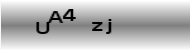4: (61, 8, 76, 22)
A: (46, 10, 62, 24)
U: (35, 20, 50, 34)
j: (105, 17, 112, 34)
z: (90, 20, 103, 32)
